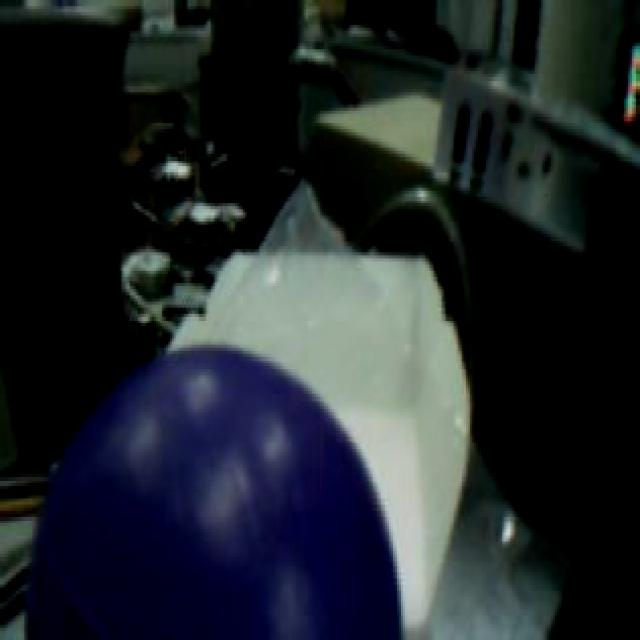BallPurple: (26, 344, 402, 640)
